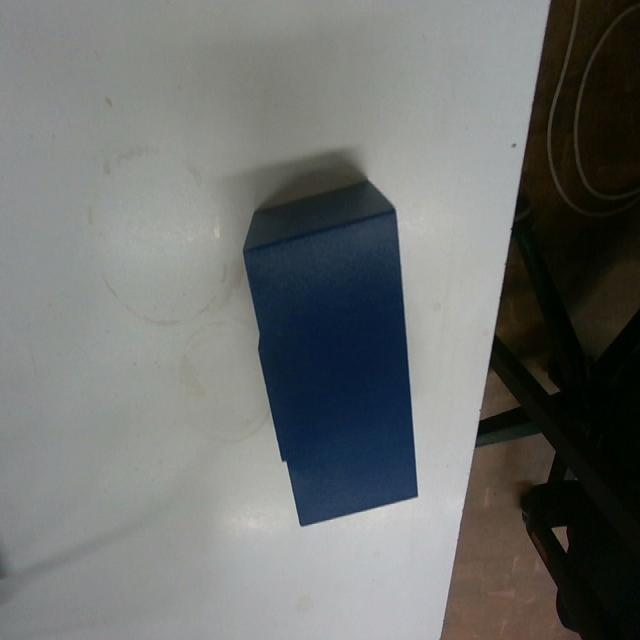Blue Cuboid: (240, 174, 420, 526)
